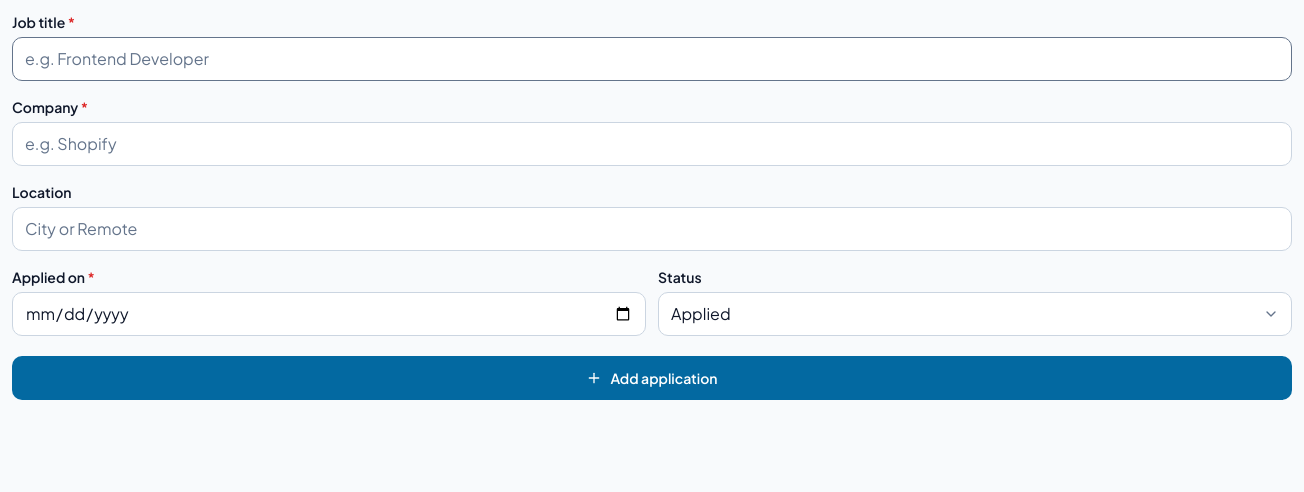
Test: JobForm › clears a field error as soon as that field is edited
Click the button "Add application".
click(652, 378)  # box [12,356,1292,400]
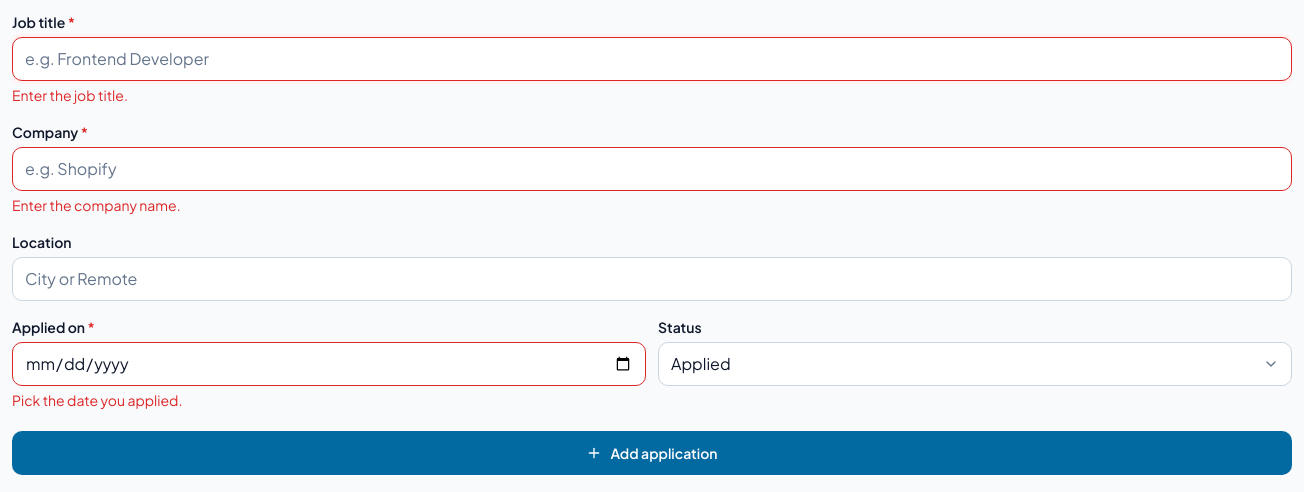
Type "Dev" into the field labelled "Job title".
click(652, 59); type("Dev")  # box [12,37,1292,81]
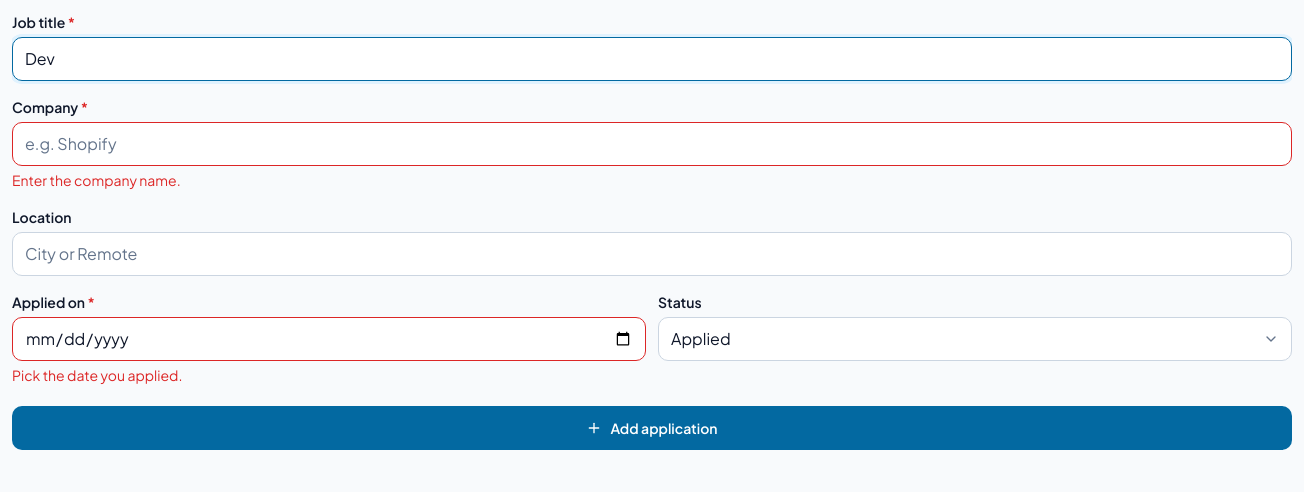
Check: the text "Enter the company name." is shown, box [12,171,181,189]
Check: the text "Enter the job title." is gone
